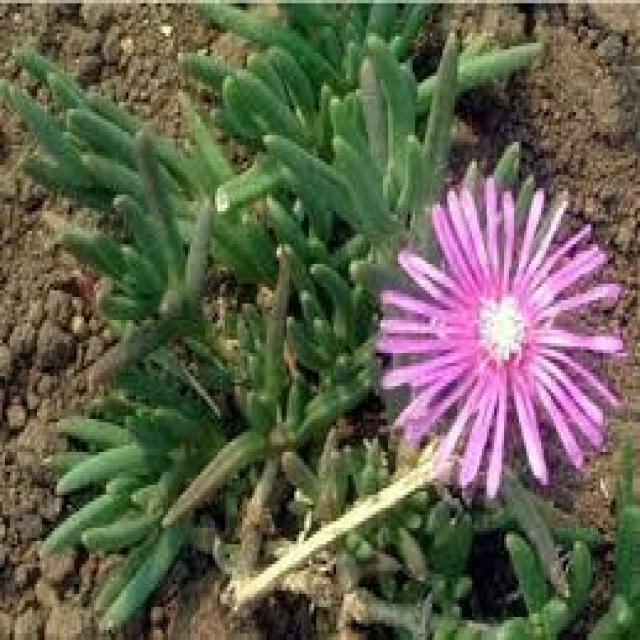organic waste: (376, 165, 628, 491)
